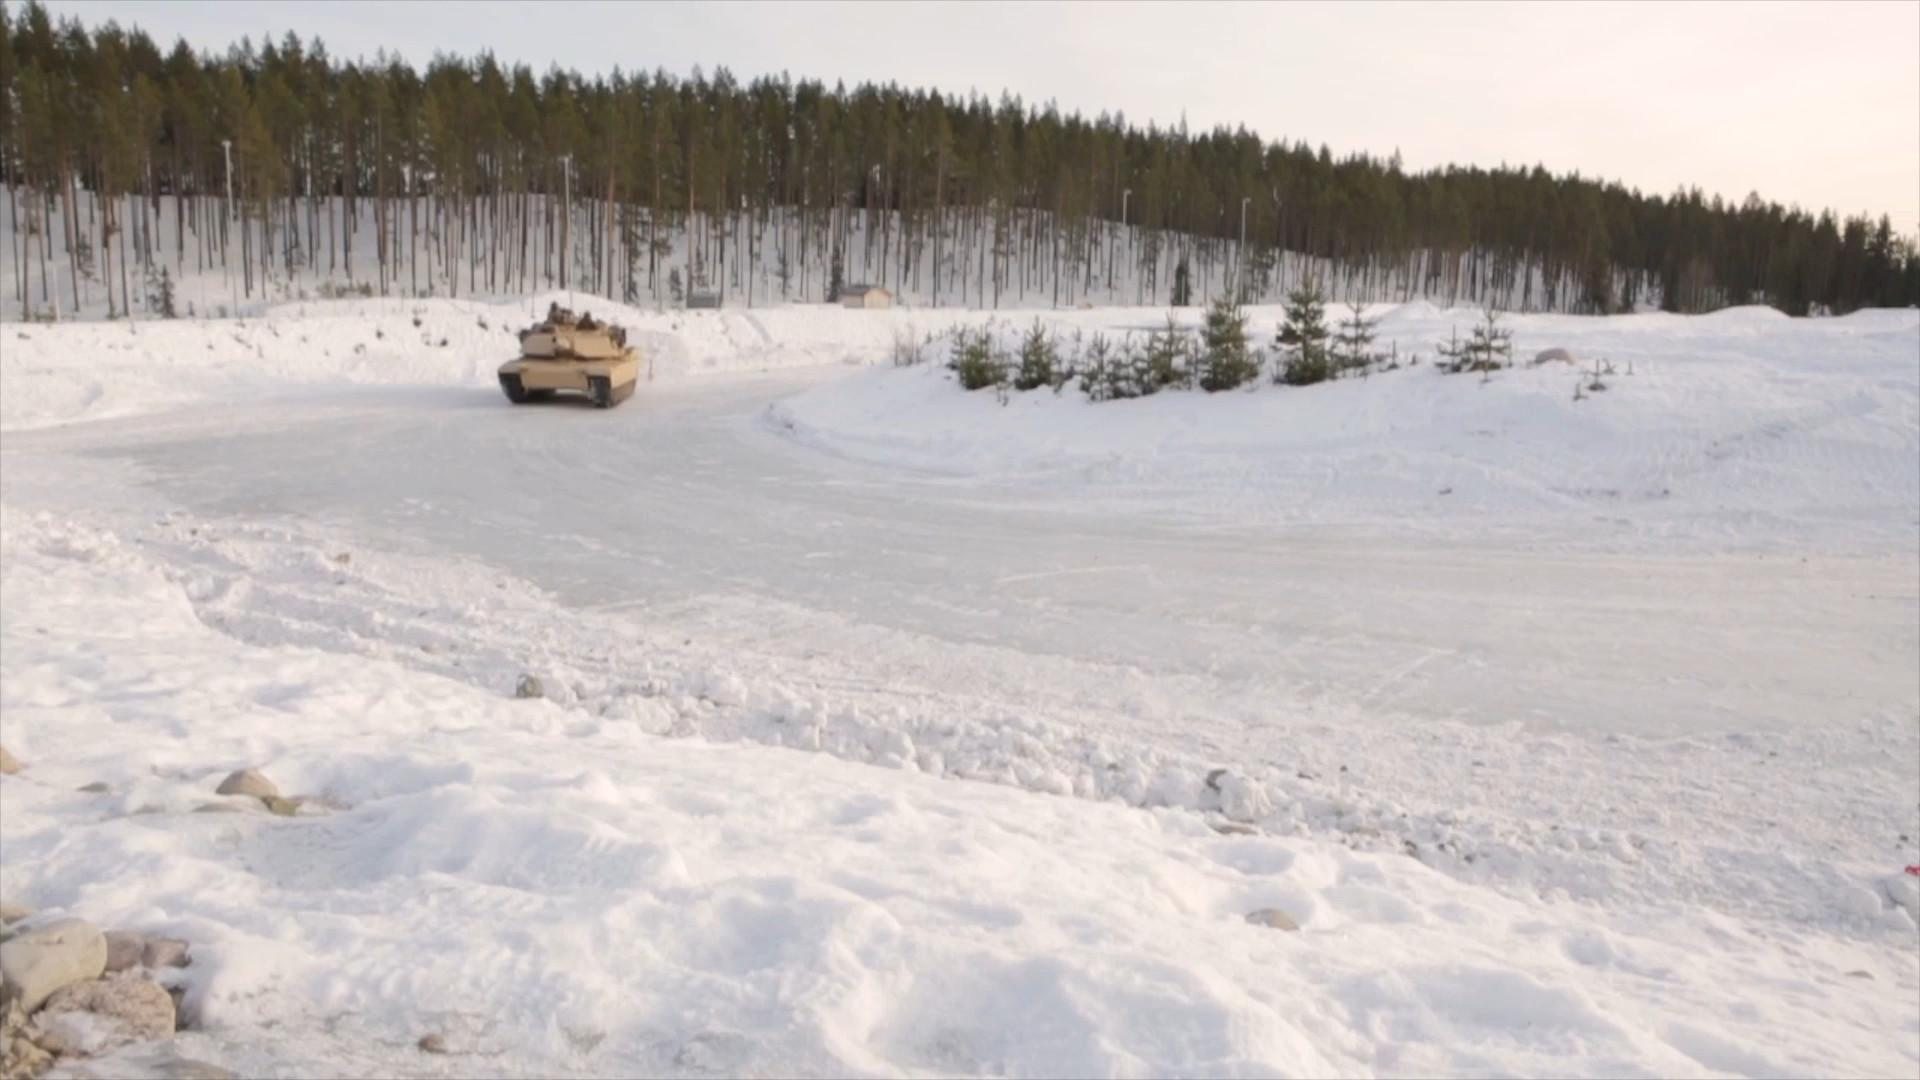tank: (498, 307, 640, 405)
